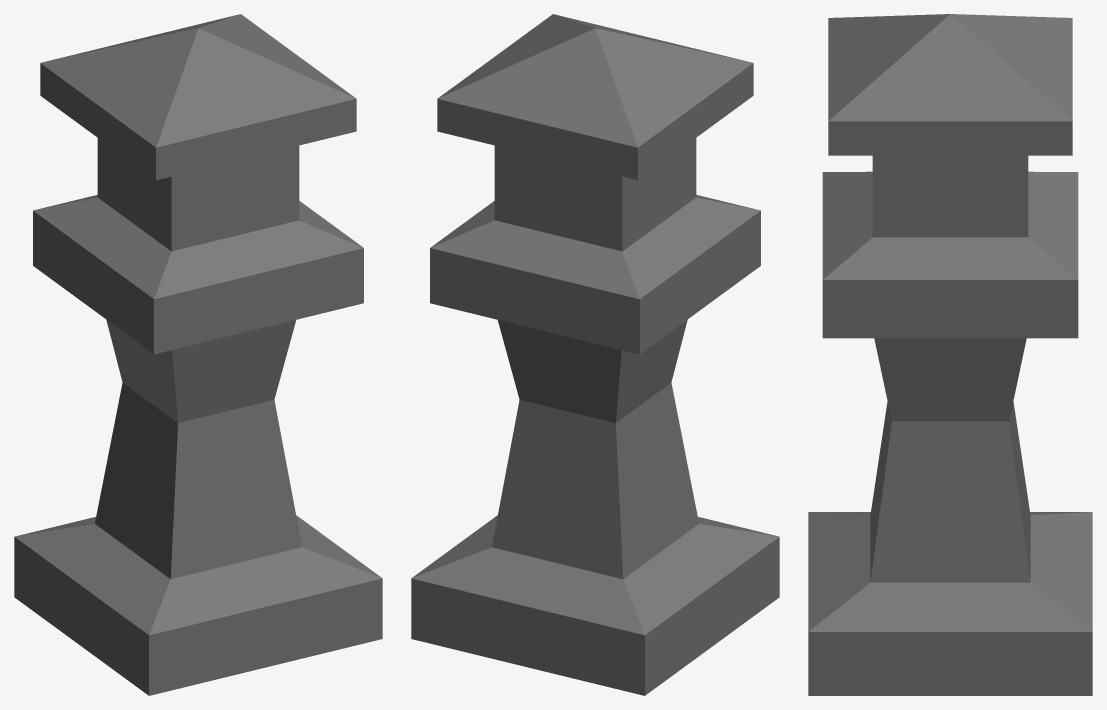
File: SM_Prop_Samurai_Shrine_02.glb
The picture shows the model from 3 angles, left to right: view 1: azimuth 30°, elevation 25°; view 2: azimuth 150°, elevation 25°; view 3: azimuth 270°, elevation 25°; orthographic projection. The views are drawn at different scales.
Visible parts, largest first — view 1: SM_Prop_Samurai_Shrine_02; view 2: SM_Prop_Samurai_Shrine_02; view 3: SM_Prop_Samurai_Shrine_02.
Boxes of the visible parts, box(x1,y1,x2,y2) form: SM_Prop_Samurai_Shrine_02: box(14, 14, 382, 695); SM_Prop_Samurai_Shrine_02: box(411, 14, 779, 695); SM_Prop_Samurai_Shrine_02: box(808, 14, 1092, 695).
Size of the model in its own units: 0.3063 by 0.7393 by 0.3063.
1 material, 1 textured.
